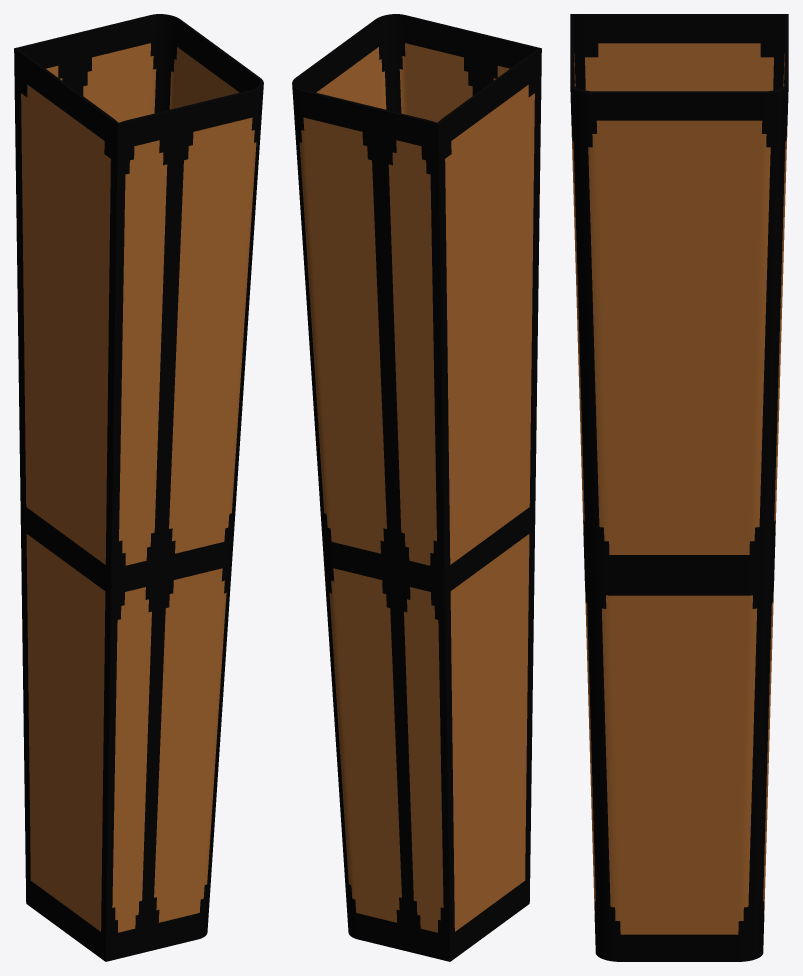
File: arrowbox.fbx
3 views of the same model, side by side, from view 1: azimuth 30°, elevation 25°; view 2: azimuth 150°, elevation 25°; view 3: azimuth 270°, elevation 25° (orthographic). The views are drawn at different scales.
Parts seen in each view (by area): view 1: Cube; view 2: Cube; view 3: Cube.
Part boxes in pixels (left/top/right/bottom): Cube: left=14, top=14, right=263, bottom=961; Cube: left=292, top=14, right=541, bottom=961; Cube: left=570, top=14, right=788, bottom=961.
Size of the model in its own units: 173 by 905 by 201.
